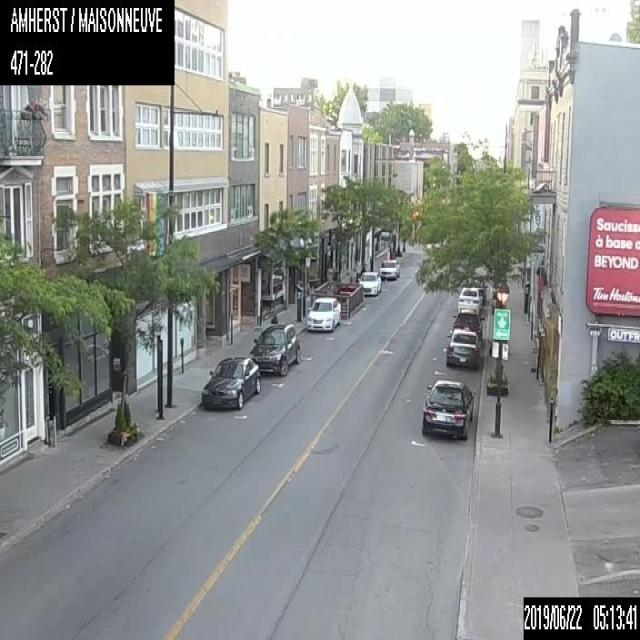vehicle: (419, 377, 474, 439), (201, 355, 260, 409), (248, 321, 300, 374), (445, 327, 481, 367), (306, 295, 340, 332), (452, 307, 484, 339), (357, 270, 381, 296), (457, 285, 482, 309), (379, 258, 399, 279)
